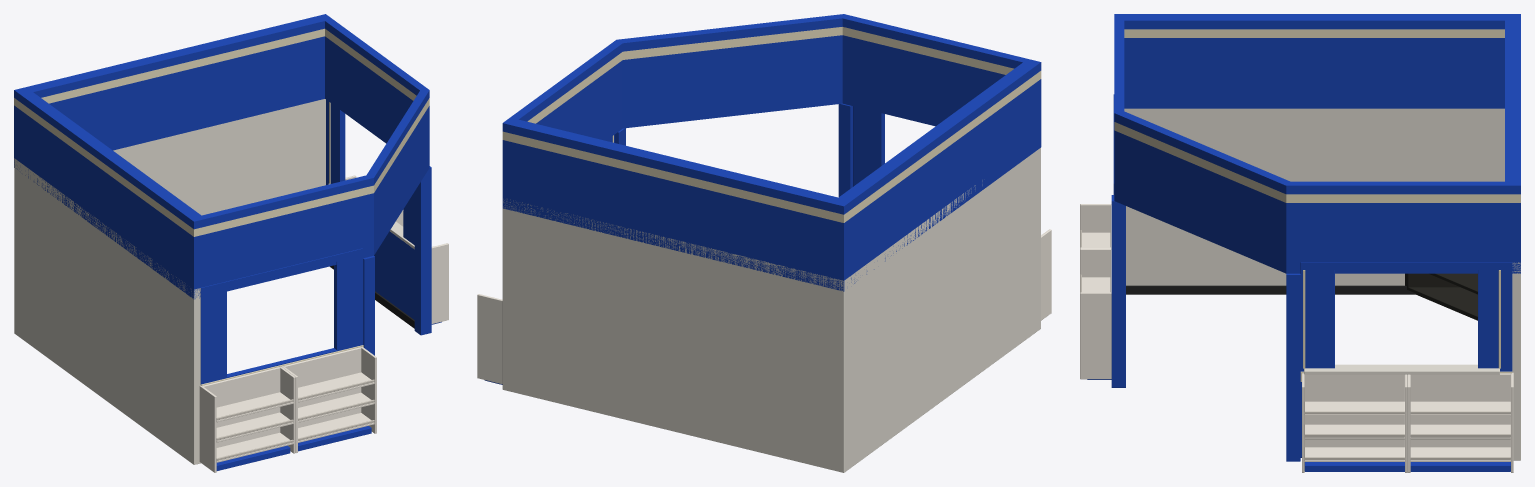
Rendered from clubhouse.glb.
The picture shows the model from 3 angles, left to right: view 1: azimuth 30°, elevation 25°; view 2: azimuth 150°, elevation 25°; view 3: azimuth 270°, elevation 25°; orthographic projection. The views are drawn at different scales.
Parts seen in each view (by area): view 1: HeaderPaint, PanelLaminate, FramePaint, ShelfLaminate, EdgePaint, ShelfEdge; view 2: PanelLaminate, HeaderPaint, FramePaint, EdgePaint, ShelfLaminate; view 3: HeaderPaint, PanelLaminate, FramePaint, ShelfLaminate, EdgePaint, CabinetLaminate, Baseboard, ShelfEdge.
Boxes of the visible parts, x1,y1,x2,y2 form: HeaderPaint: (14, 14, 429, 289); PanelLaminate: (14, 99, 414, 464); FramePaint: (14, 88, 441, 470); ShelfLaminate: (199, 175, 448, 472); EdgePaint: (14, 28, 429, 385); ShelfEdge: (216, 379, 374, 460); PanelLaminate: (502, 148, 1040, 472); HeaderPaint: (502, 14, 1041, 280); FramePaint: (484, 92, 1041, 384); EdgePaint: (502, 27, 1041, 222); ShelfLaminate: (477, 229, 1051, 384); HeaderPaint: (1114, 14, 1520, 262); PanelLaminate: (1124, 108, 1520, 460); FramePaint: (1087, 94, 1520, 471); ShelfLaminate: (1080, 204, 1513, 472); EdgePaint: (1114, 29, 1520, 381); CabinetLaminate: (1405, 273, 1477, 320); Baseboard: (1126, 285, 1415, 457); ShelfEdge: (1080, 230, 1510, 459).
Bounding box in the file's own units: 15.4 × 10.6 × 15.4.
